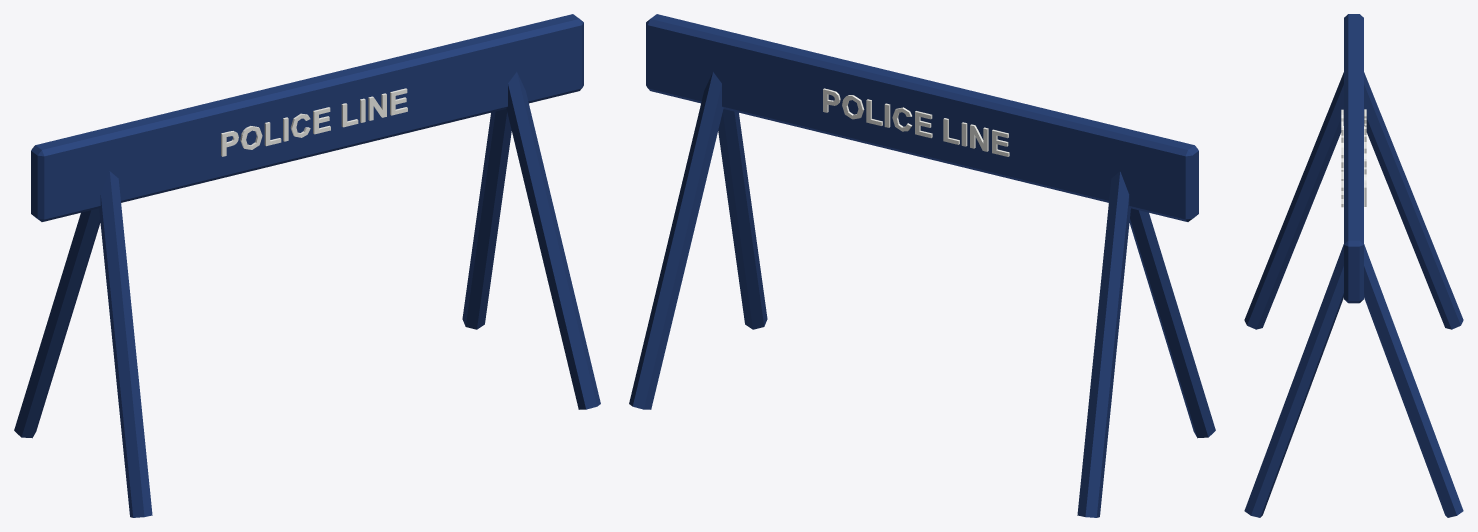
File: PD_Sawhorse.fbx
3 views of the same model, side by side, from view 1: azimuth 30°, elevation 25°; view 2: azimuth 150°, elevation 25°; view 3: azimuth 270°, elevation 25° (orthographic). The views are drawn at different scales.
Visible parts, largest first — view 1: PD_Sawhorse_Mesh; view 2: PD_Sawhorse_Mesh; view 3: PD_Sawhorse_Mesh.
Boxes of the visible parts, x1=… form: PD_Sawhorse_Mesh: x1=14, y1=14, x2=600, y2=517; PD_Sawhorse_Mesh: x1=629, y1=14, x2=1215, y2=517; PD_Sawhorse_Mesh: x1=1244, y1=14, x2=1463, y2=517.
Size of the model in its own units: 1.9 by 1.13 by 0.7642.
